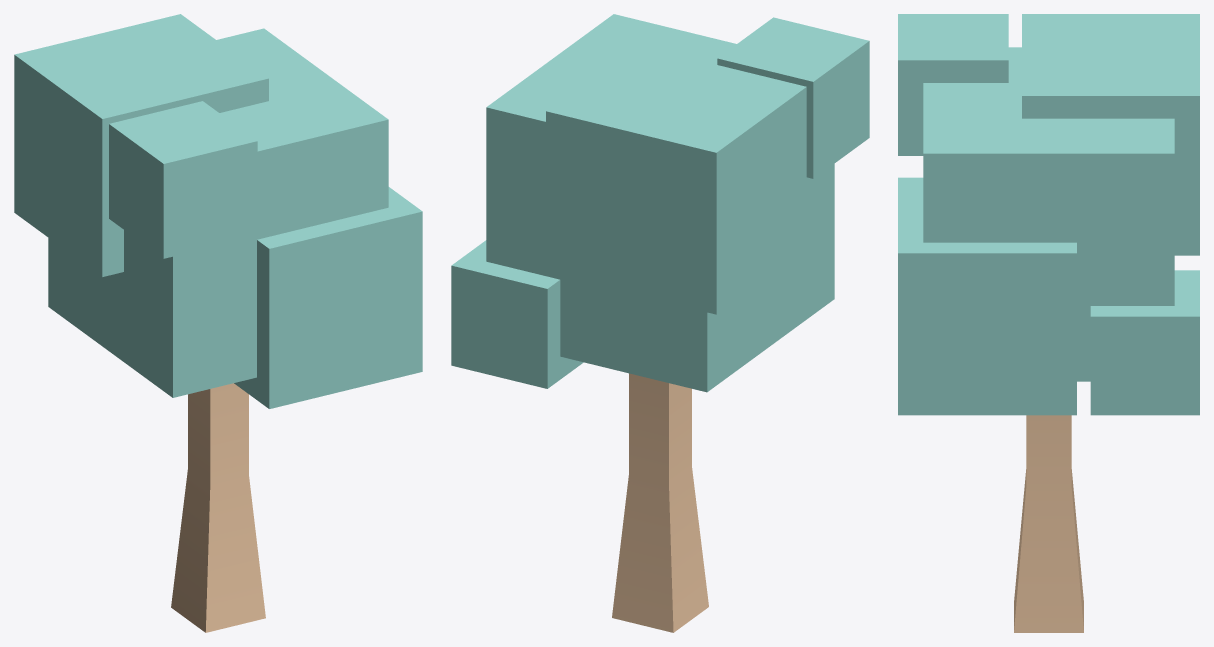
The model's file is tree_blocks.glb.
3 renders of one model, left to right at view 1: azimuth 30°, elevation 25°; view 2: azimuth 150°, elevation 25°; view 3: azimuth 270°, elevation 25°, orthographic. The views are drawn at different scales.
Visible parts, largest first — view 1: tree_blocks; view 2: tree_blocks; view 3: tree_blocks.
Part boxes in pixels (x1=…): tree_blocks: x1=14, y1=14, x2=422, y2=632; tree_blocks: x1=451, y1=14, x2=869, y2=632; tree_blocks: x1=898, y1=14, x2=1199, y2=632.
Size of the model in its own units: 0.6 by 1.18 by 0.6.
